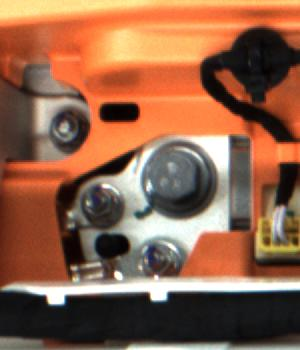nut_b: (138, 138, 219, 217)
screw_s: (78, 182, 119, 220), (42, 110, 81, 147), (139, 240, 176, 276)
